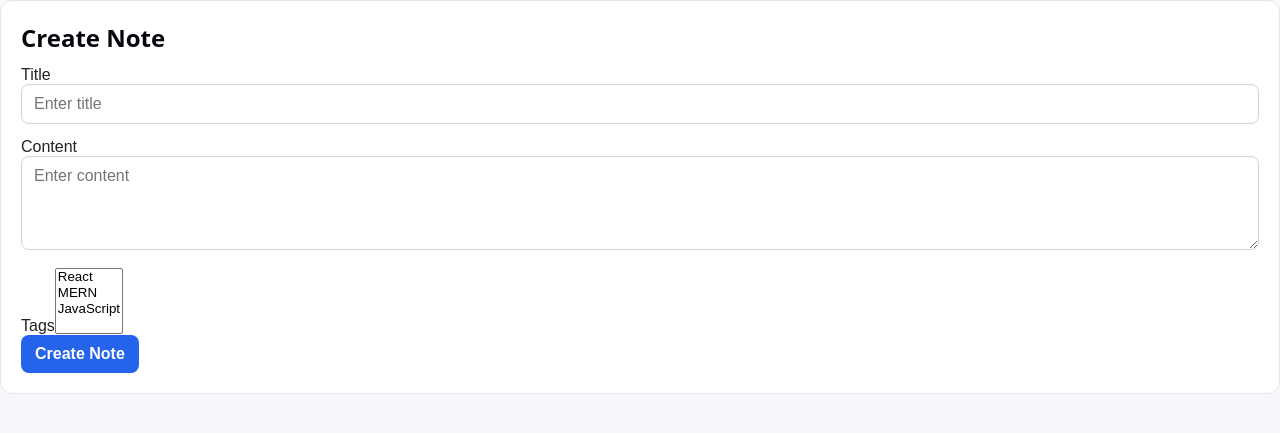
Scenario: NoteForm › shows validation error when content is empty
The width and height of the screenshot is (1280, 433).
Step 1. Type "Valid title" into the field labelled "Title" → [640, 104], box [21,84,1259,124]
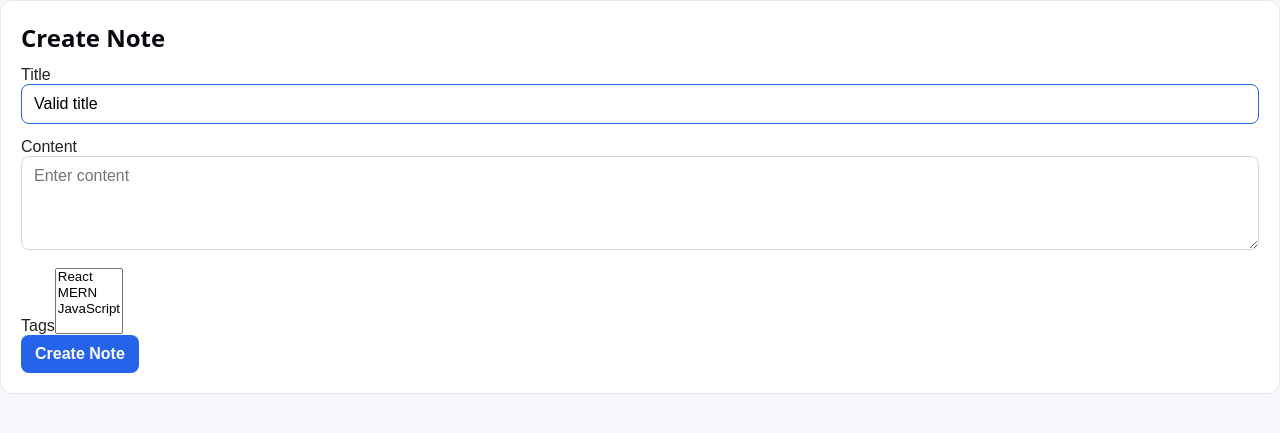
Step 2. Click the button "Create Note" → [80, 354], box [21,335,139,373]
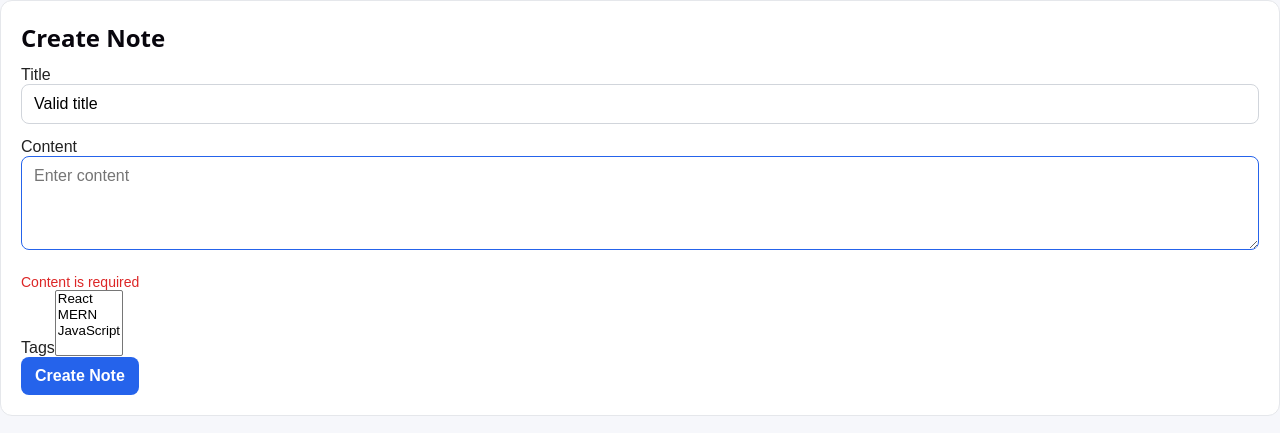
Now the text "Content is required" is shown, box [21,274,139,290]
